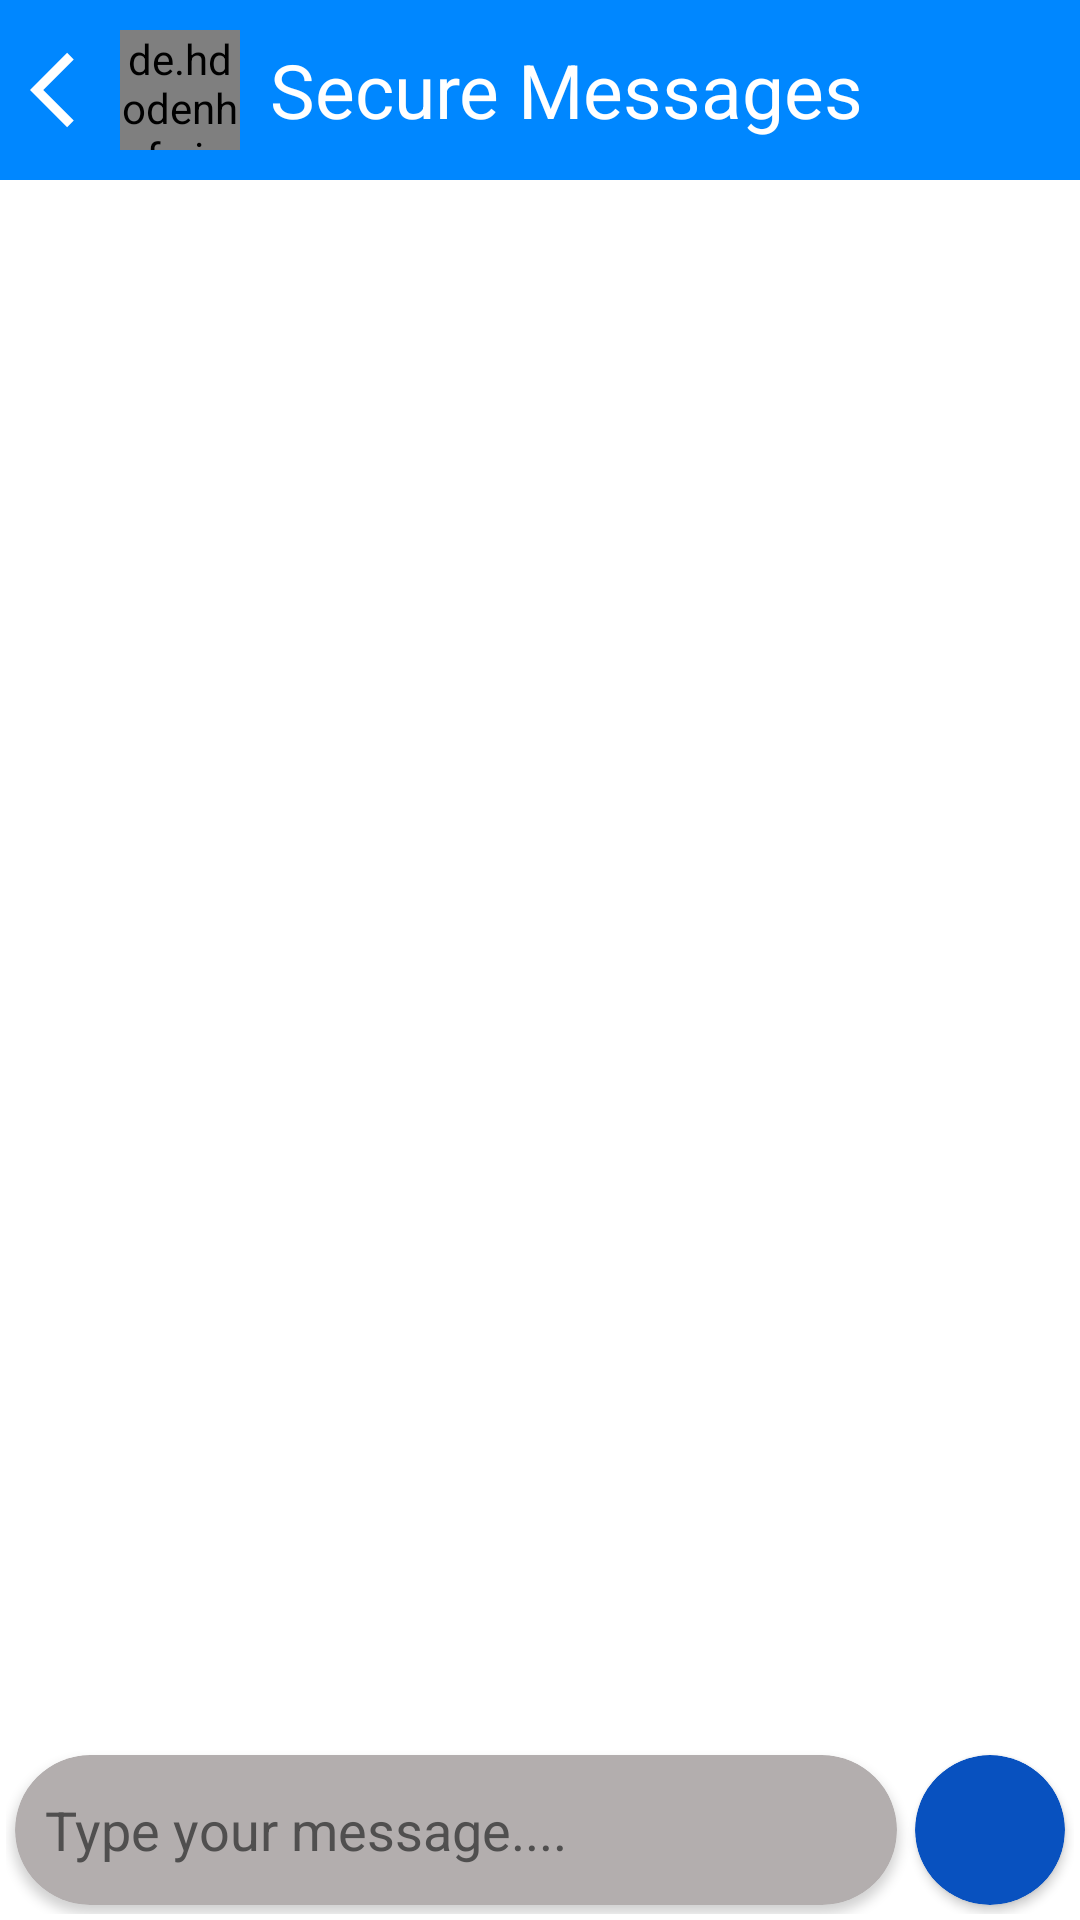

Point at icon controls on the screen. Image size 1080px x 1920px, points as [x,y].
arrow back: [52,90]
